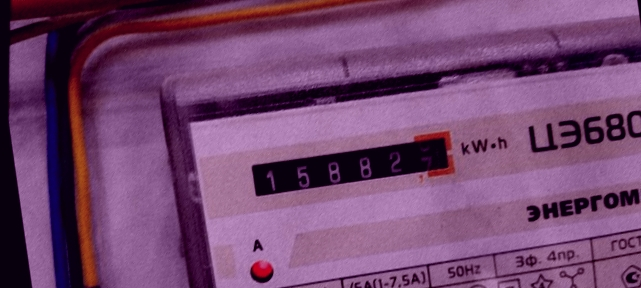1: (263, 166, 278, 194)
2: (386, 148, 405, 175)
5: (294, 163, 311, 190)
7: (418, 153, 435, 172)
8: (324, 158, 344, 185), (356, 154, 374, 181)
screen: (240, 124, 465, 212)
